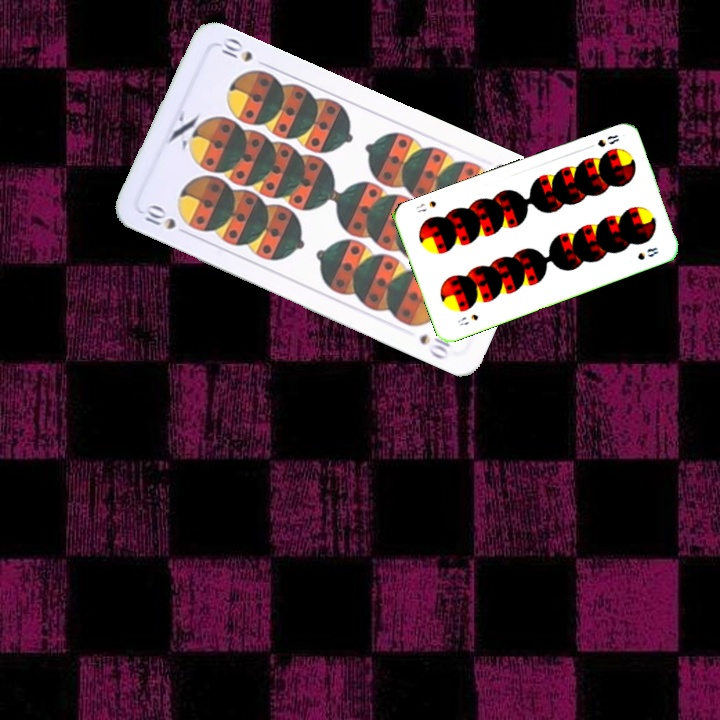S10: (137, 201, 179, 233)
S8: (593, 130, 622, 150), (453, 310, 481, 328)
